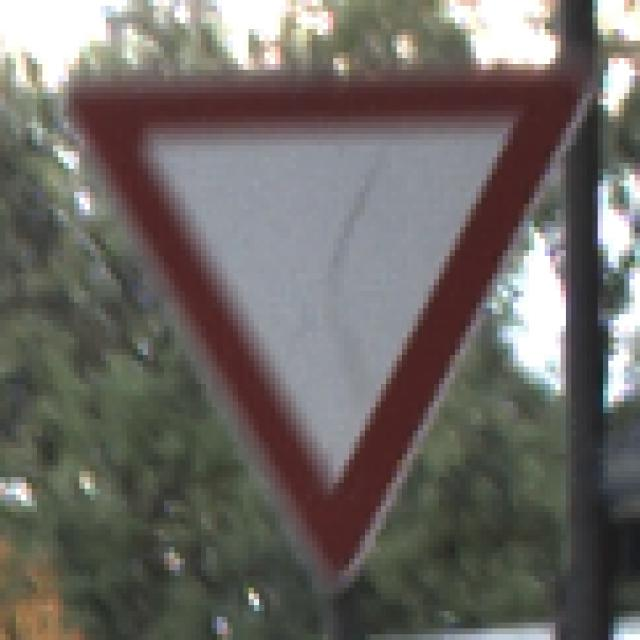Give Way: (54, 59, 583, 589)
